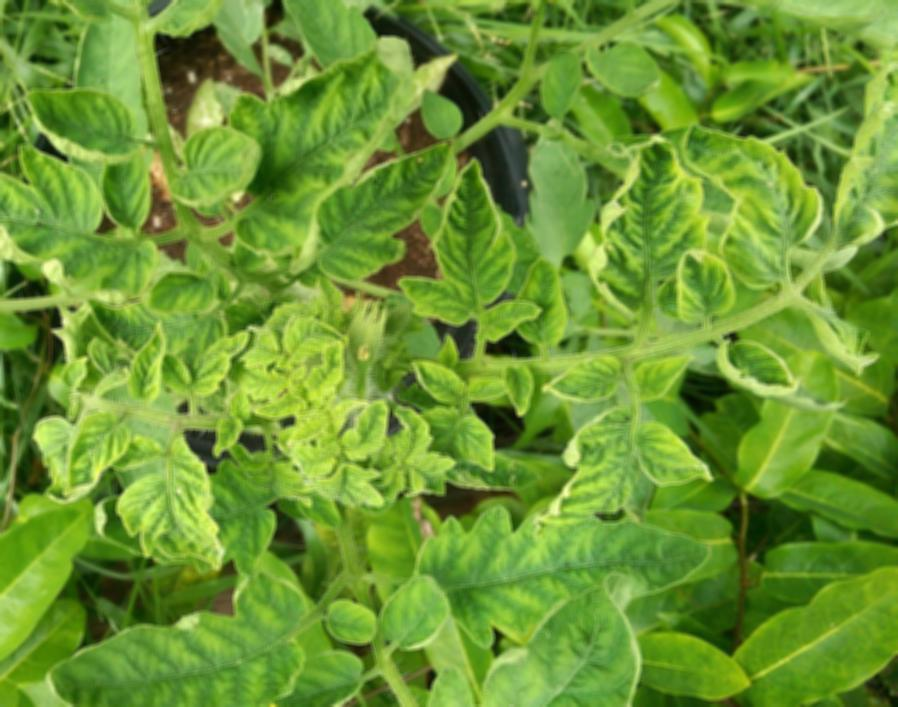Tomato leaf yellow virus: (196, 53, 411, 279), (47, 553, 317, 707), (403, 508, 726, 634), (381, 152, 559, 348), (669, 84, 820, 296), (0, 135, 169, 323), (724, 542, 898, 707), (735, 303, 864, 500), (467, 575, 649, 707), (588, 121, 701, 326), (302, 151, 461, 289), (0, 488, 102, 681), (544, 396, 673, 533), (110, 437, 228, 568), (157, 110, 269, 228), (714, 335, 804, 400), (543, 350, 628, 412), (124, 323, 172, 406), (191, 332, 252, 395), (341, 393, 394, 464), (277, 312, 349, 363), (406, 359, 472, 405), (501, 355, 537, 421)
